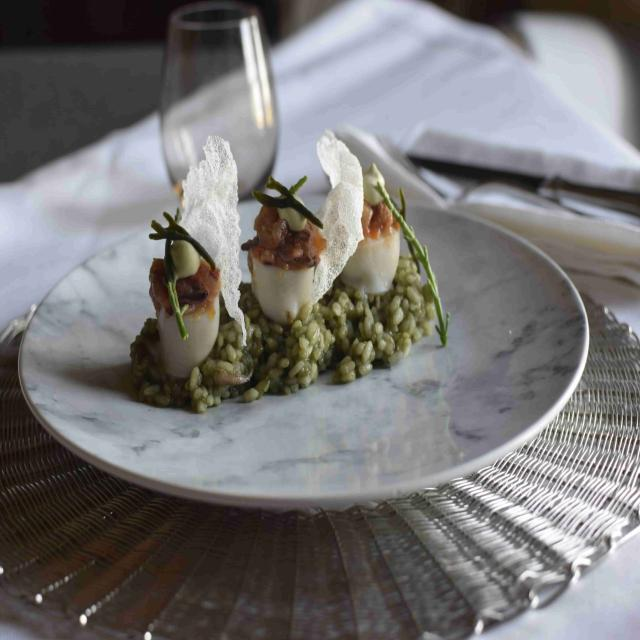pescado: (133, 123, 470, 430)
